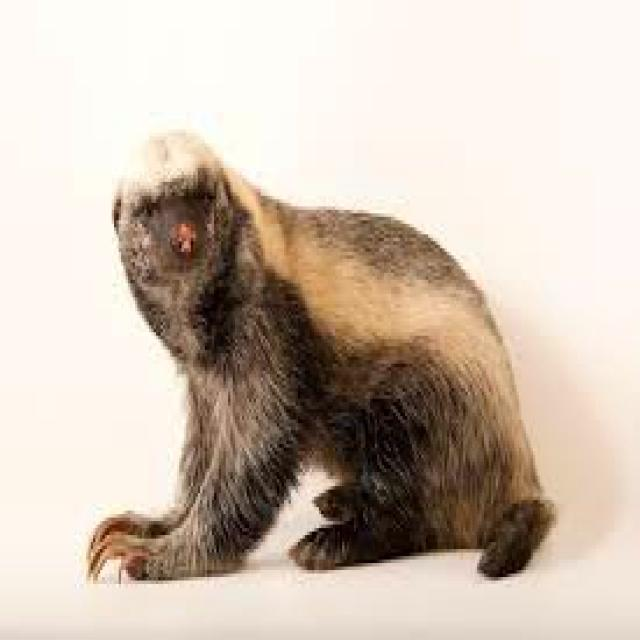badger: (88, 133, 552, 577)
